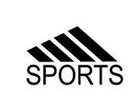adidas Fake: (22, 23, 126, 89)
